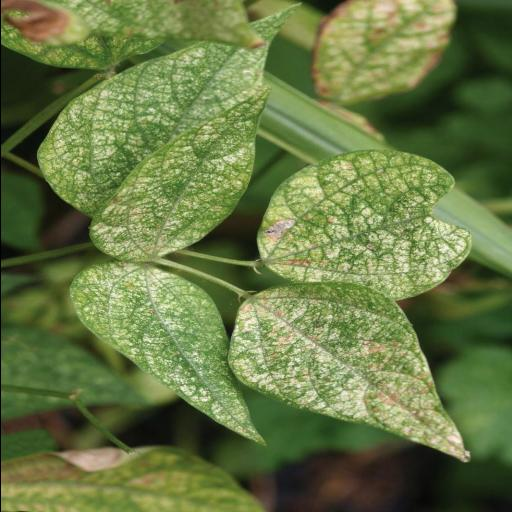Spider Mites: (36, 2, 304, 218), (226, 282, 472, 463), (69, 260, 269, 446), (87, 82, 273, 262), (256, 148, 472, 302)
